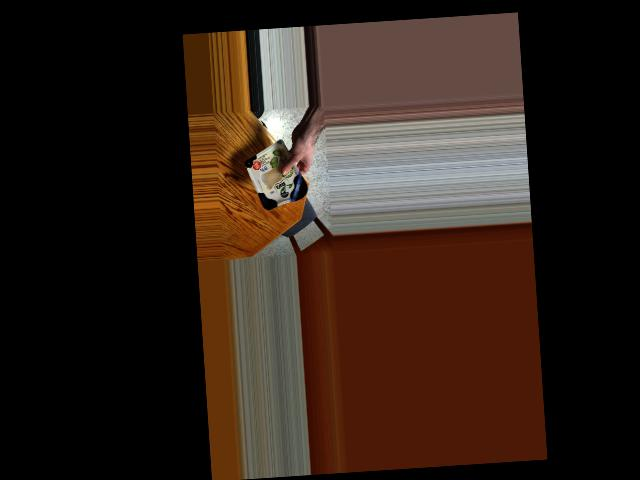cheese: (246, 149, 306, 214)
